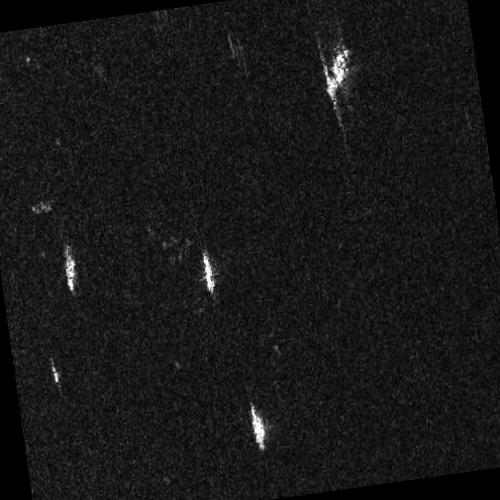ship: (326, 46, 350, 101), (250, 404, 267, 453), (201, 251, 217, 296), (64, 244, 77, 292), (51, 364, 60, 385)
